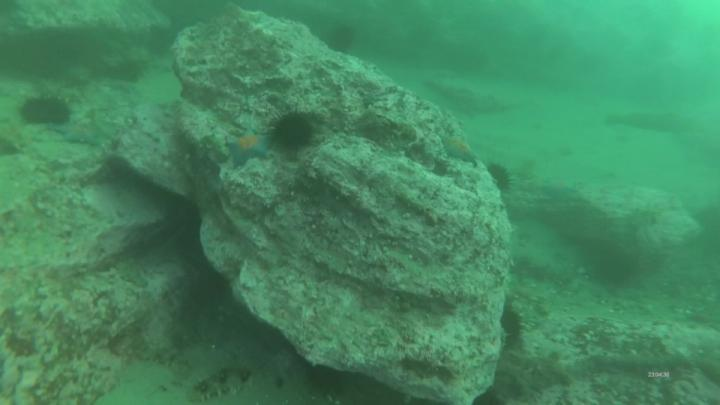echinus: (20, 97, 72, 126), (273, 116, 315, 150), (500, 312, 526, 344), (324, 27, 353, 53), (488, 163, 510, 187)
holothurian: (191, 363, 259, 400)
starfish: (588, 242, 631, 286), (225, 129, 274, 165), (442, 133, 481, 164), (57, 121, 101, 142)
